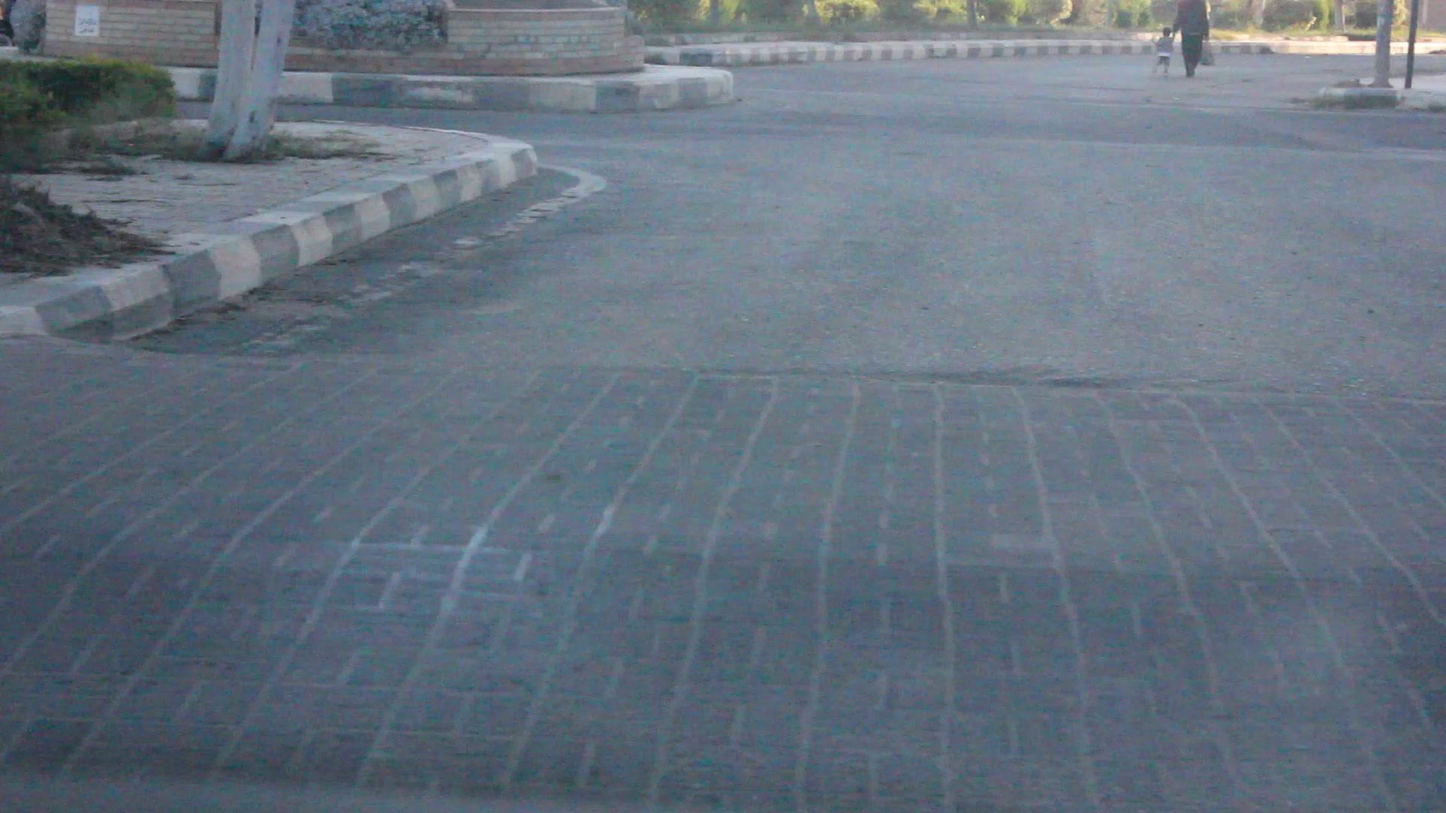Bump: (15, 337, 1446, 813)
